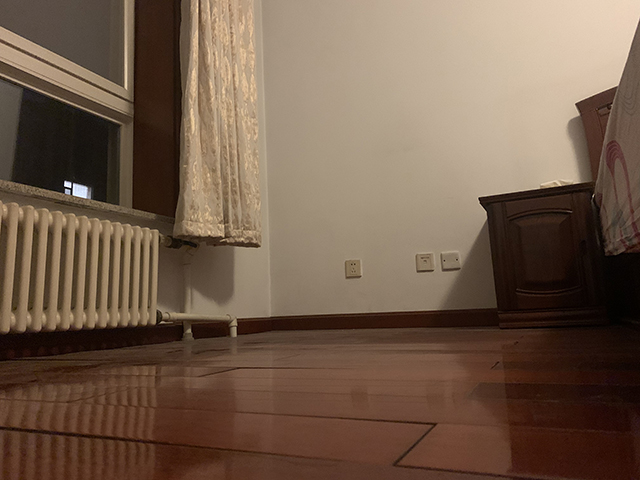bed: (477, 180, 608, 330)
curtain: (170, 1, 269, 248)
